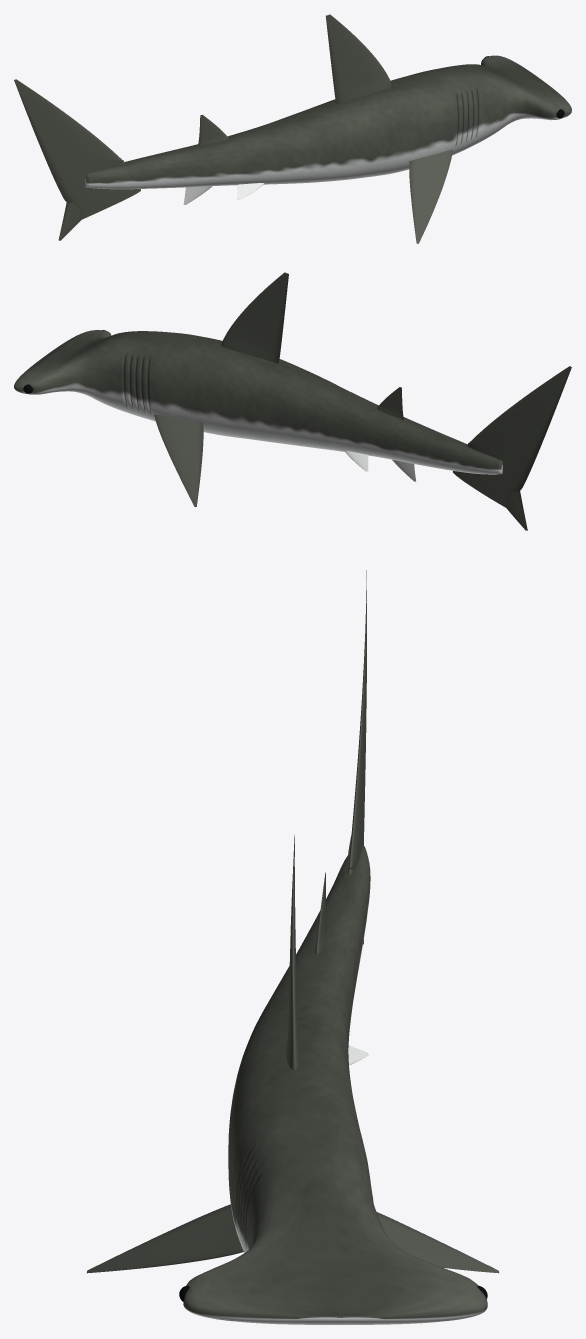
File: great_hammerhead.glb
3 renders of one model, top to bottom at view 1: azimuth 30°, elevation 25°; view 2: azimuth 150°, elevation 25°; view 3: azimuth 270°, elevation 25°, orthographic. The views are drawn at different scales.
Visible parts, largest first — view 1: GreatHammerhead_Body, GreatHammerhead_Fins; view 2: GreatHammerhead_Body, GreatHammerhead_Fins; view 3: GreatHammerhead_Body, GreatHammerhead_Fins.
Part boxes in pixels (left/top/right/bottom): GreatHammerhead_Body: left=85, top=55, right=571, bottom=189; GreatHammerhead_Fins: left=14, top=14, right=452, bottom=243; GreatHammerhead_Body: left=14, top=330, right=502, bottom=474; GreatHammerhead_Fins: left=154, top=272, right=571, bottom=530; GreatHammerhead_Body: left=183, top=844, right=487, bottom=1324; GreatHammerhead_Fins: left=87, top=570, right=498, bottom=1273.
Bounding box in the file's own units: 4.2 × 1.54 × 1.44.
3 materials, 1 textured.
